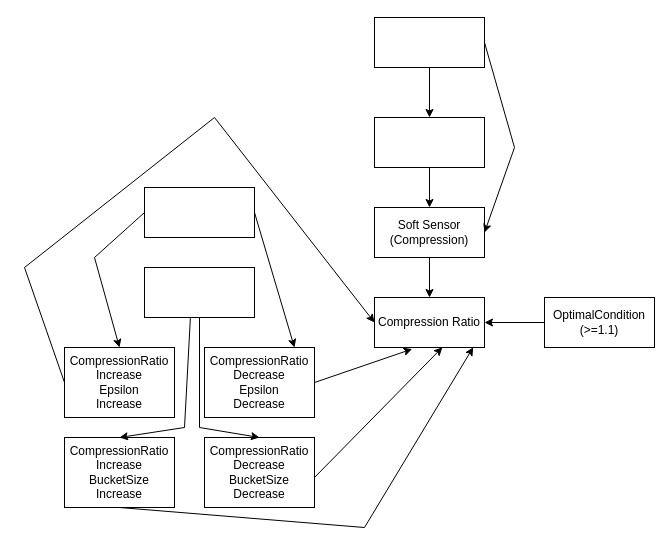
Some shapes in this 672 by 553 pixel diagram are drawn without their labels. Each missing label, with the box of its shape:
Austevoll: (374, 16, 484, 68)
Bucket Size: (144, 266, 254, 318)
Epsilon: (144, 186, 254, 238)
Temp. Sensor: (374, 116, 484, 168)
